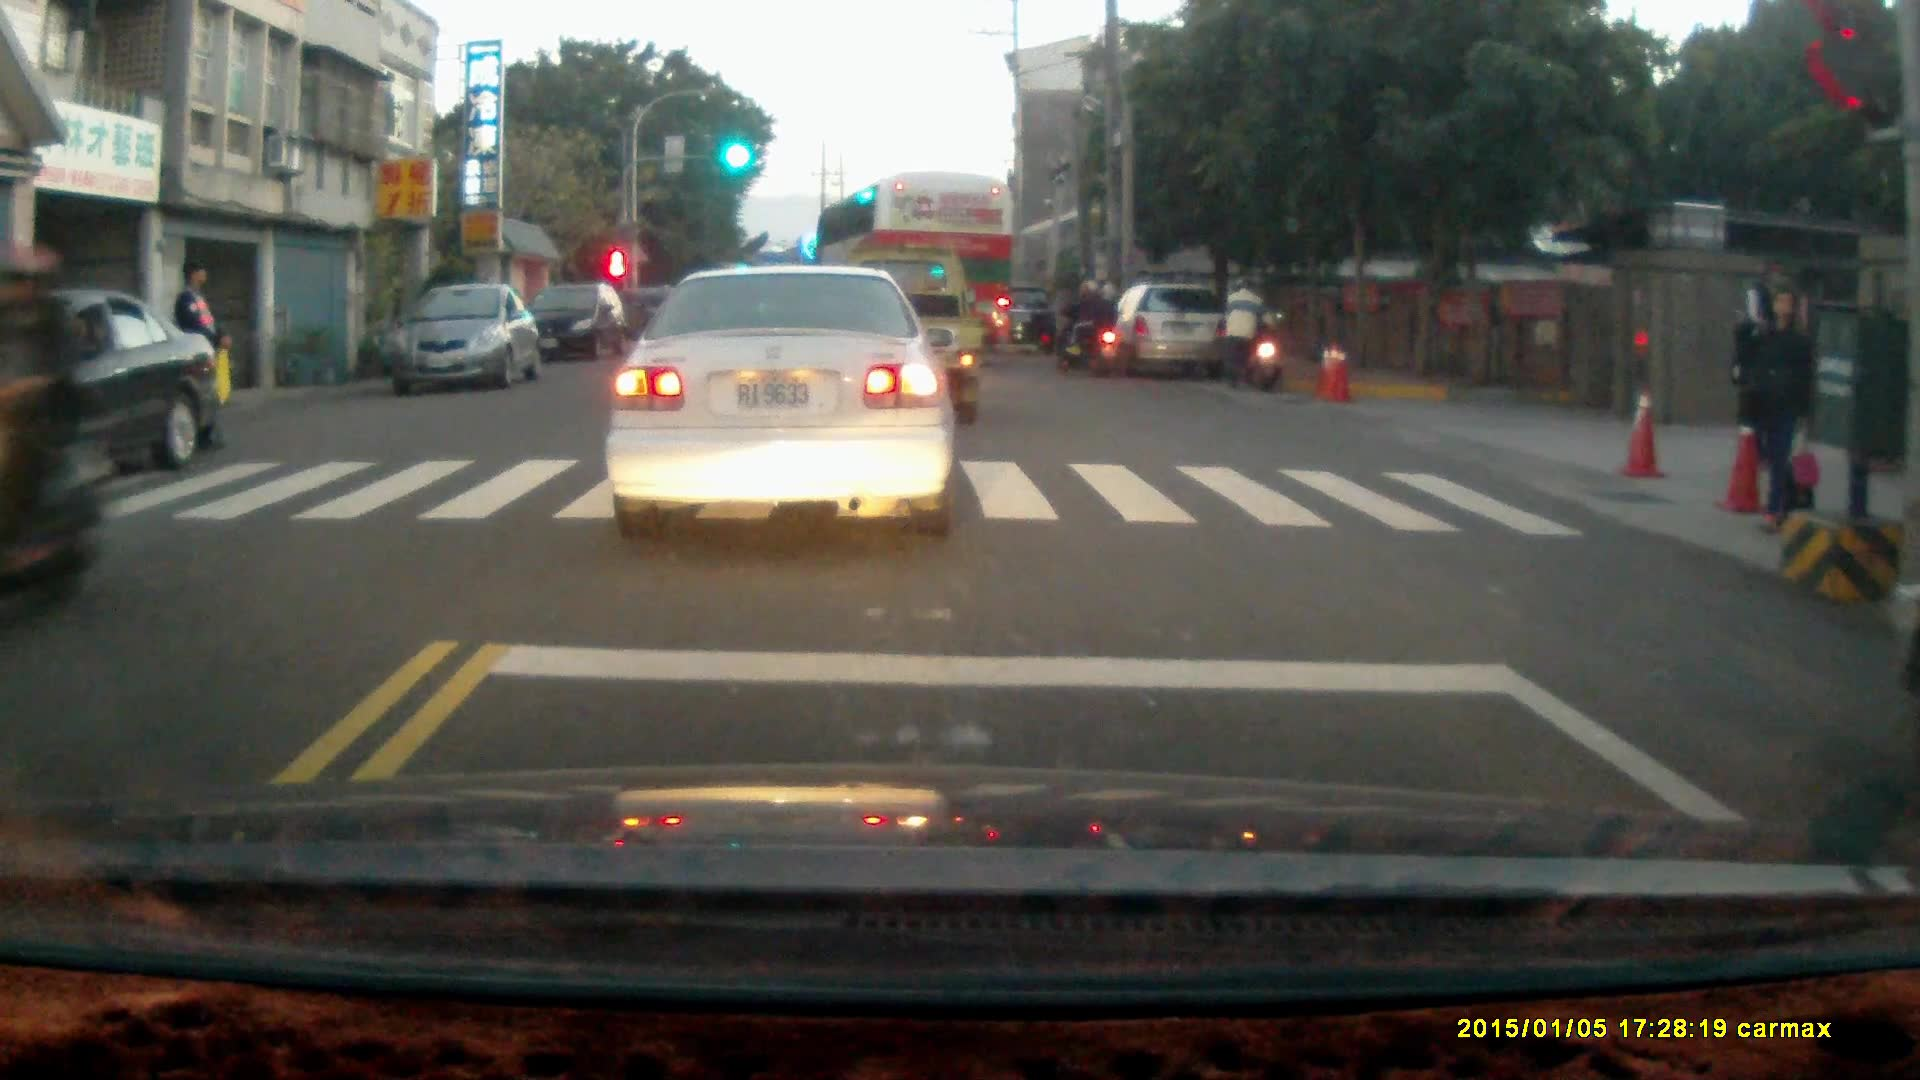pedestrian: (1742, 282, 1818, 526), (171, 259, 229, 452), (1729, 278, 1781, 463), (1224, 270, 1267, 386)
rider: (0, 249, 112, 630), (1053, 277, 1117, 382)
vehicle: (598, 260, 958, 546), (2, 292, 217, 512), (812, 171, 1019, 375), (382, 284, 539, 395), (1105, 283, 1232, 382), (523, 279, 629, 364)
